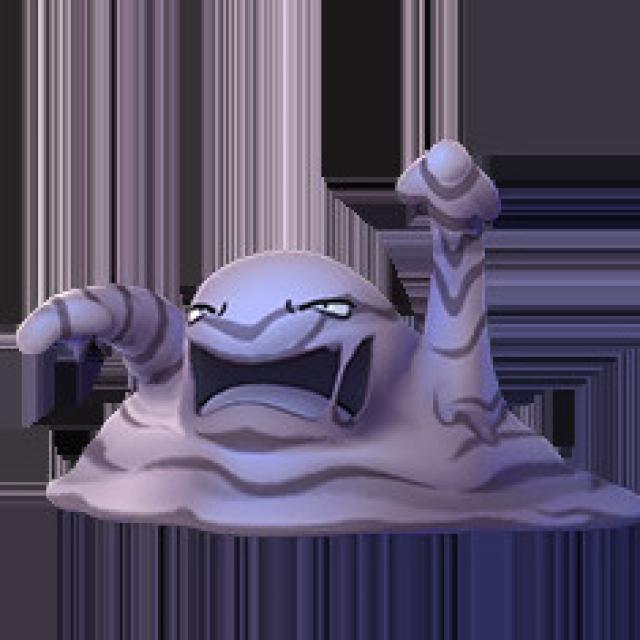Muk: (97, 252, 527, 550)
